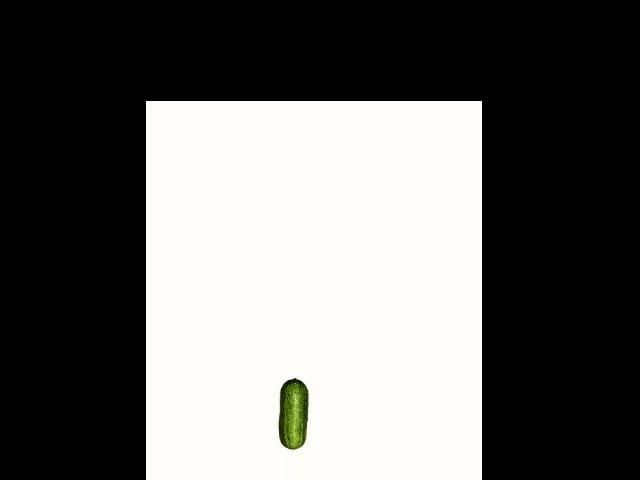cucumber: (279, 378, 307, 449)
